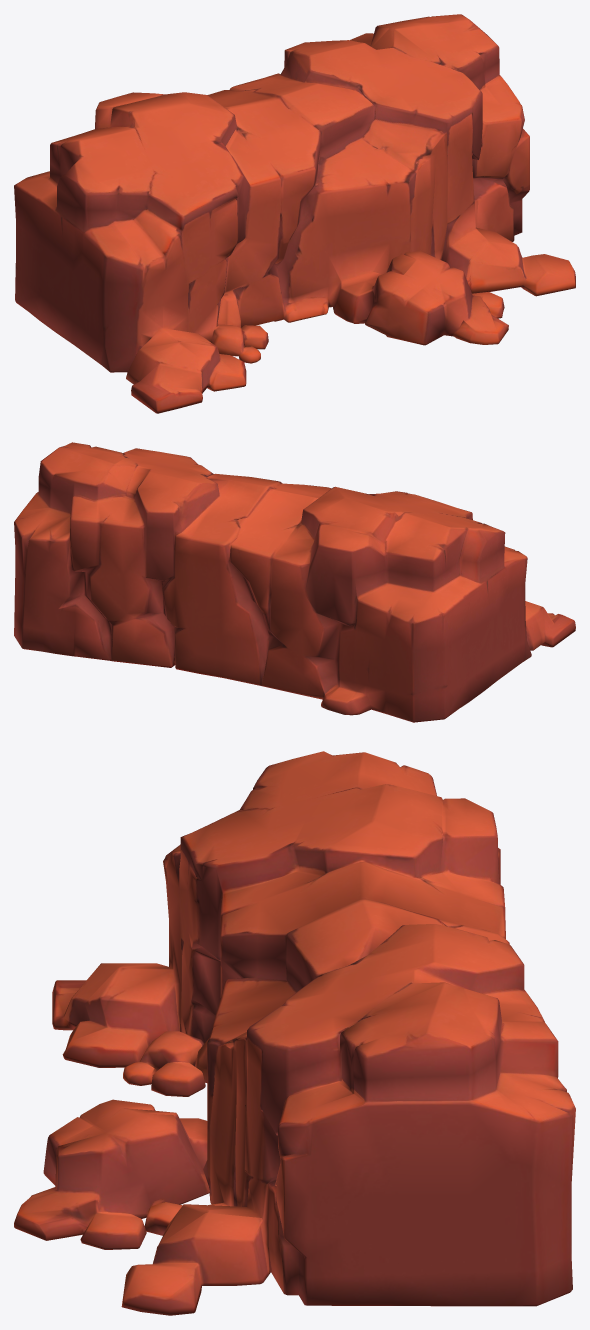
Rendered from Kit_Cliff.fbx.
3 renders of one model, top to bottom at view 1: azimuth 30°, elevation 25°; view 2: azimuth 150°, elevation 25°; view 3: azimuth 270°, elevation 25°, orthographic. The views are drawn at different scales.
Visible parts, largest first — view 1: tripo_node_28339634; view 2: tripo_node_28339634; view 3: tripo_node_28339634.
Part boxes in pixels (x1=…): tripo_node_28339634: x1=14, y1=14, x2=575, y2=413; tripo_node_28339634: x1=14, y1=442, x2=575, y2=722; tripo_node_28339634: x1=14, y1=751, x2=575, y2=1315.
Bounding box in the file's own units: 97.7 × 72.85 × 39.96.
Materials: 1 (1 with a texture image).
